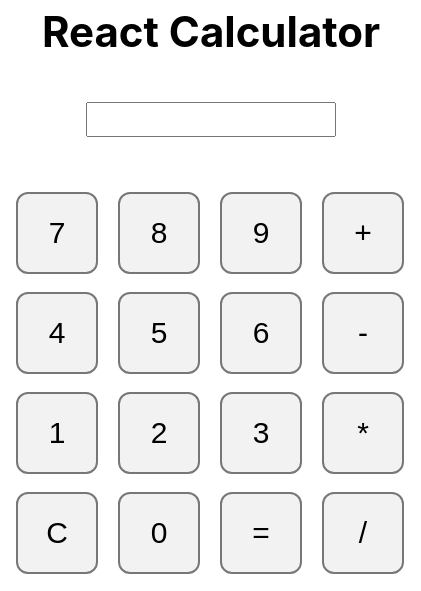
Test case: React Calculator Tests › Button Interactions › updates display on button click
This screenshot has width=421, height=591.
Click the button "1" at (57,433), box [16,392,98,474]
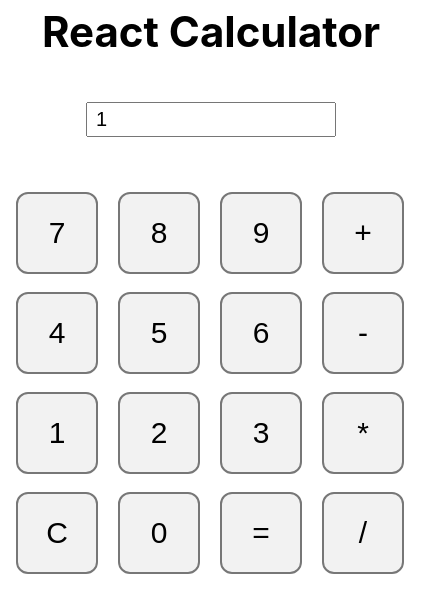
Click the button "2" at (159,433), box [118,392,200,474]
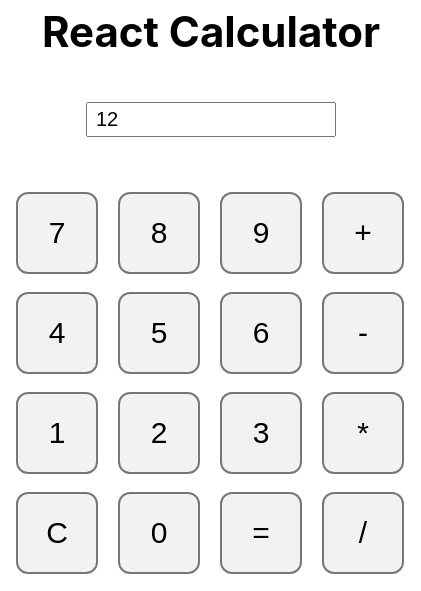
Click the button "+" at (363,233), box [322,192,404,274]
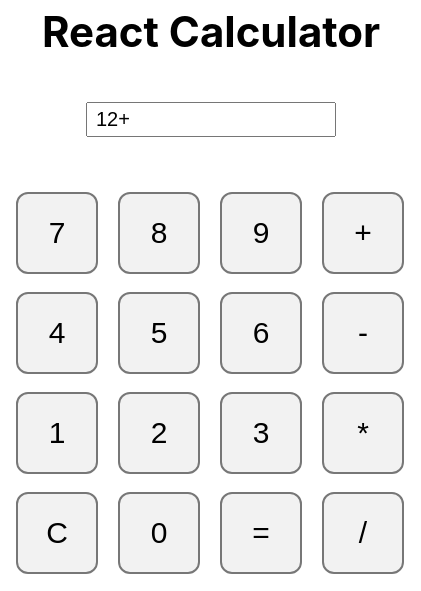
Click the button "3" at (261,433), box [220,392,302,474]
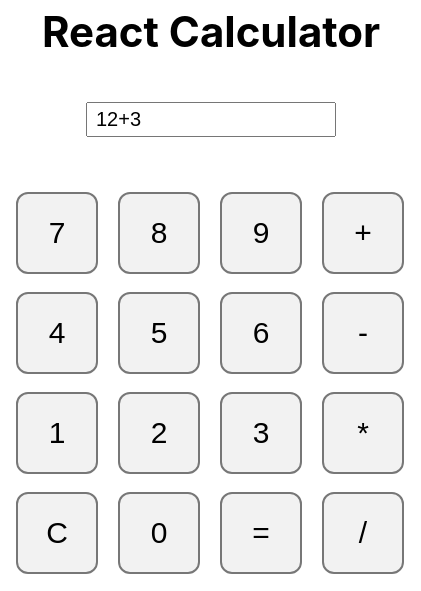
Expected: the field holds "12+3", [86,102,336,137]
